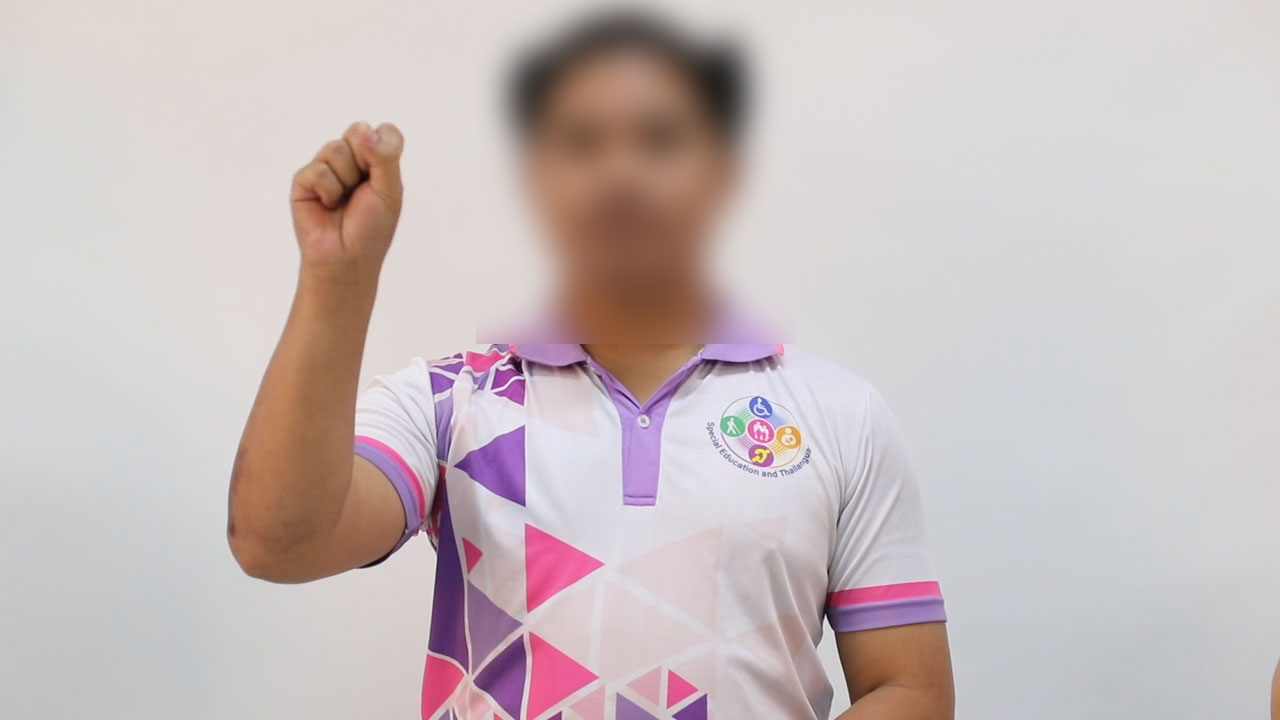sor: (276, 103, 419, 284)
